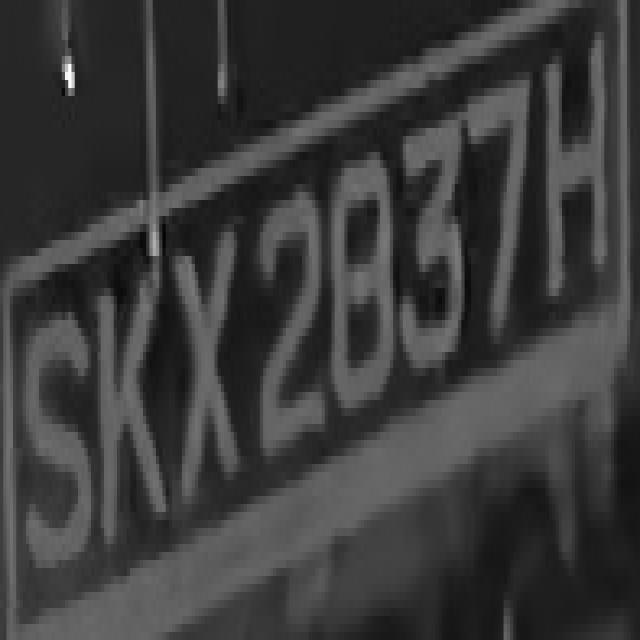2: (247, 176, 341, 464)
3: (396, 88, 471, 392)
7: (452, 80, 536, 376)
8: (315, 128, 406, 408)
H: (540, 24, 618, 320)
K: (91, 224, 179, 568)
S: (16, 264, 84, 576)
X: (156, 192, 250, 520)
